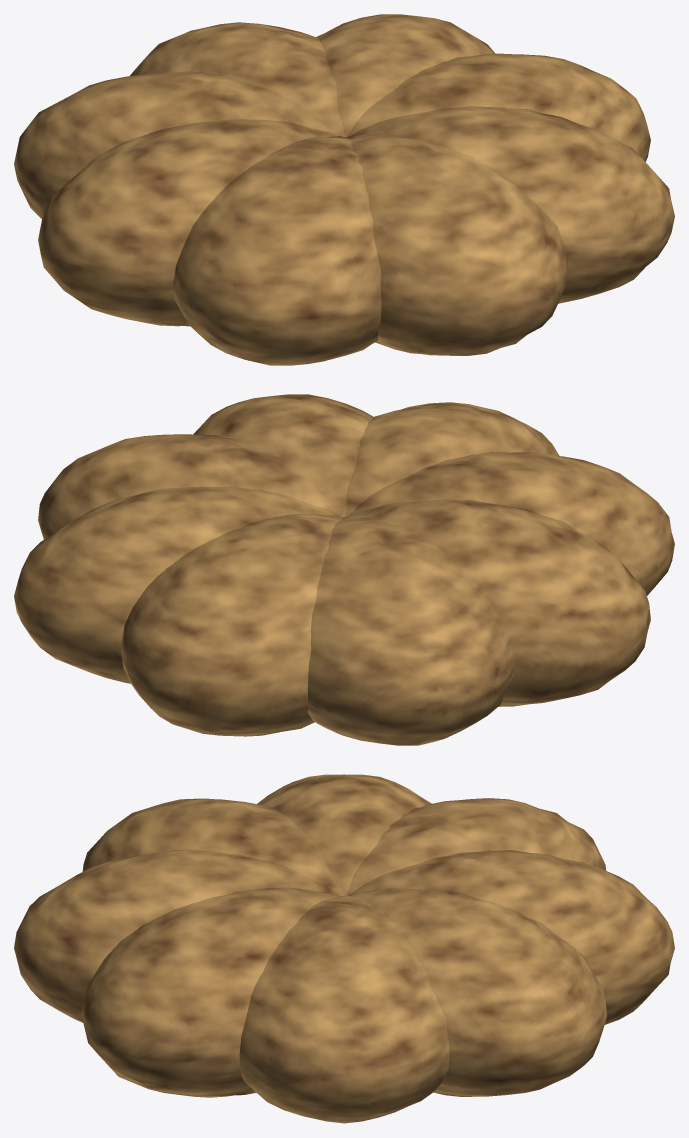
File: round-bread.glb
The picture shows the model from 3 angles, top to bottom: view 1: azimuth 30°, elevation 25°; view 2: azimuth 150°, elevation 25°; view 3: azimuth 270°, elevation 25°; orthographic projection. The views are drawn at different scales.
Parts seen in each view (by area): view 1: Scored round loaf; view 2: Scored round loaf; view 3: Scored round loaf.
Part boxes in pixels (x1=…): Scored round loaf: x1=14, y1=14, x2=674, y2=365; Scored round loaf: x1=14, y1=394, x2=674, y2=745; Scored round loaf: x1=14, y1=774, x2=674, y2=1123.
Bounding box in the file's own units: 1.32 × 0.36 × 1.32.
Materials: 1 (1 with a texture image).
